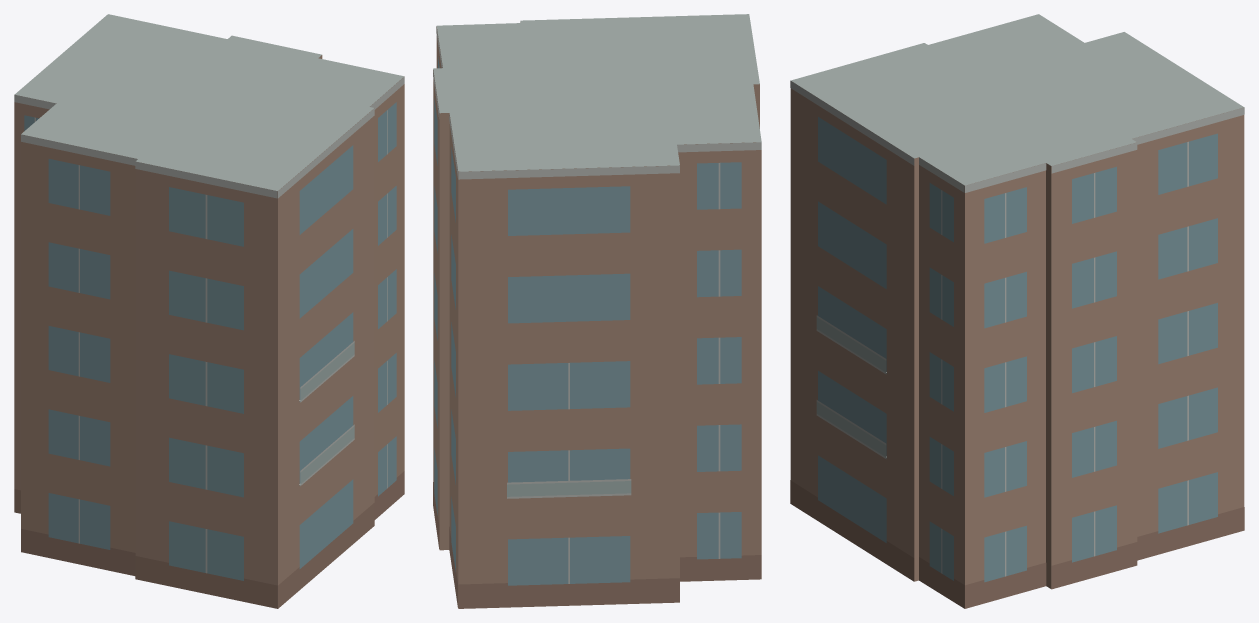
File: survey-upis-32617660.glb
3 views of the same model, side by side, from view 1: azimuth 30°, elevation 25°; view 2: azimuth 150°, elevation 25°; view 3: azimuth 270°, elevation 25° (orthographic). The views are drawn at different scales.
Visible parts, largest first — view 1: survey-upis-32617660.tmp; view 2: survey-upis-32617660.tmp; view 3: survey-upis-32617660.tmp.
Boxes of the visible parts, <box> form: survey-upis-32617660.tmp: <box>14,14,404,608</box>; survey-upis-32617660.tmp: <box>433,14,761,608</box>; survey-upis-32617660.tmp: <box>790,14,1244,608</box>.
Bounding box in the file's own units: 11.92 × 13.7 × 13.32.
